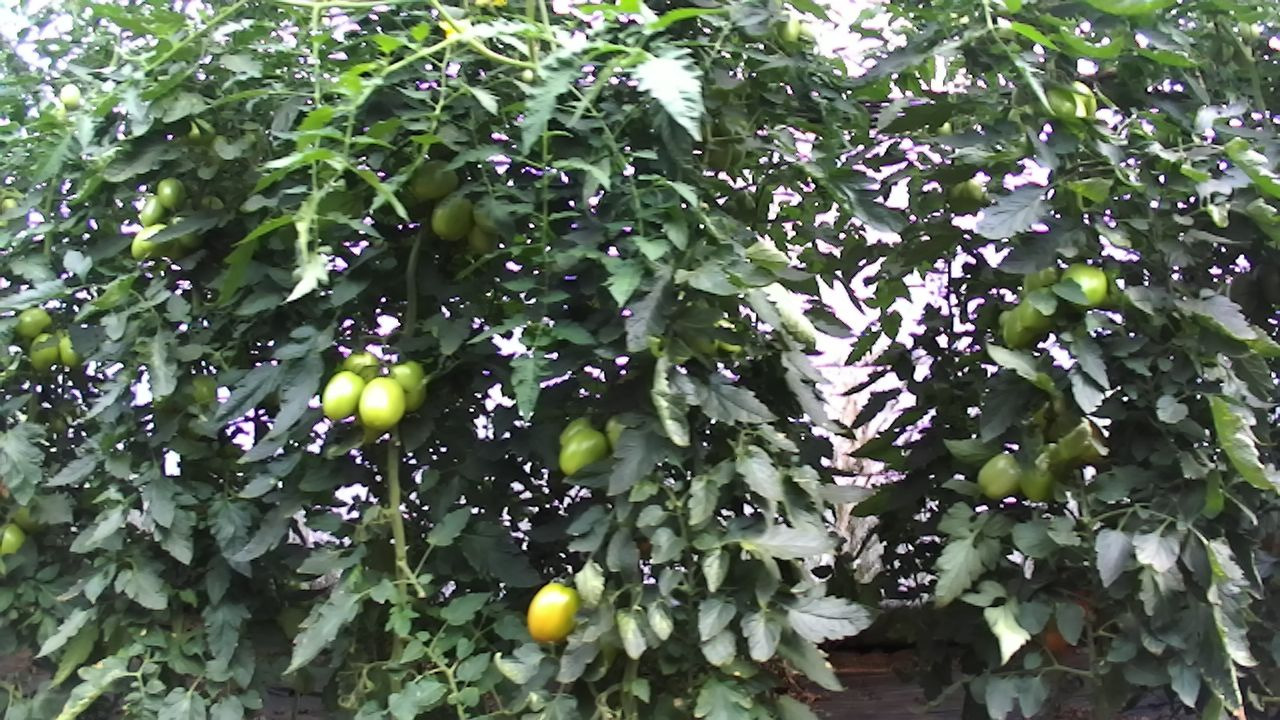tomato: (523, 579, 584, 645), (553, 422, 610, 479), (355, 374, 405, 432), (974, 450, 1025, 503), (427, 190, 475, 243), (408, 156, 462, 203), (320, 368, 365, 423), (388, 357, 430, 415), (1015, 293, 1056, 334), (10, 305, 55, 342), (1000, 309, 1041, 349), (26, 328, 62, 373), (155, 173, 187, 213), (137, 193, 166, 230), (56, 79, 83, 109)
